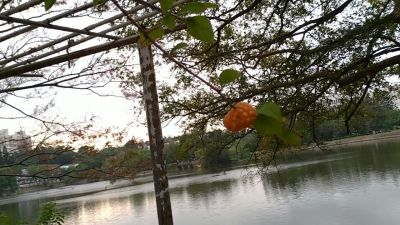eggs: (221, 100, 258, 132)
